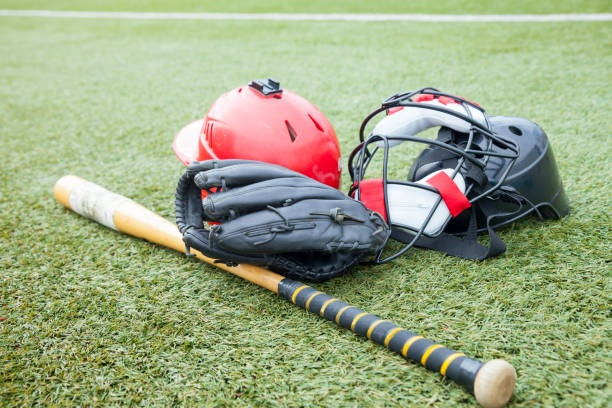bita: (48, 177, 521, 403)
